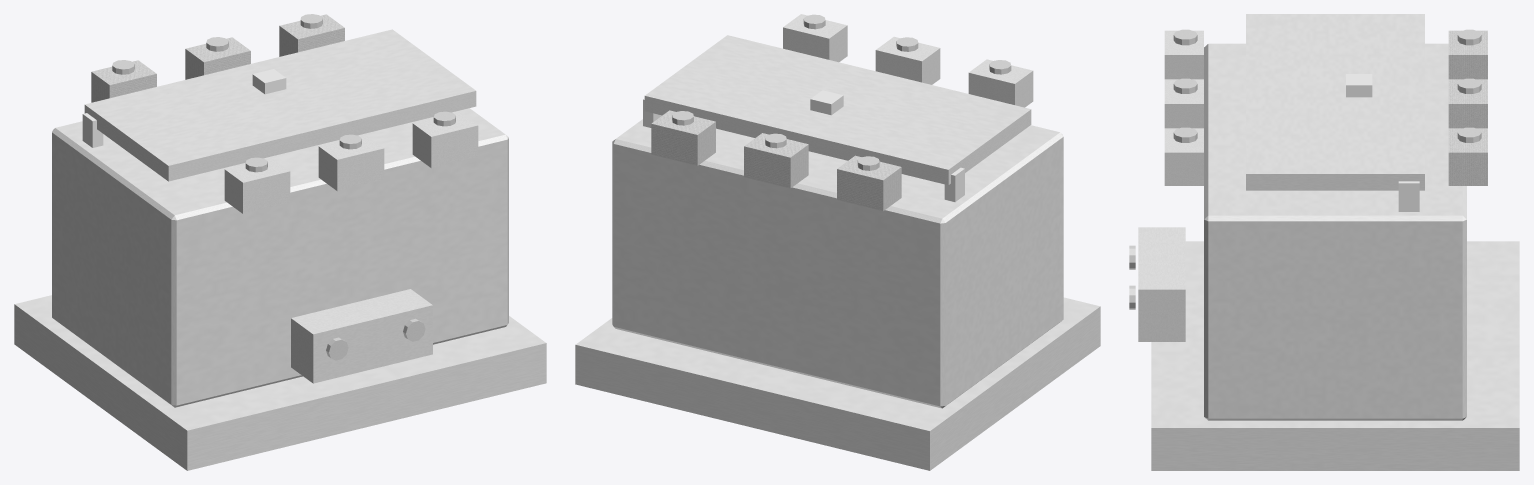
File: switchgear_contactor_three.obj
3 views of the same model, side by side, from view 1: azimuth 30°, elevation 25°; view 2: azimuth 150°, elevation 25°; view 3: azimuth 270°, elevation 25° (orthographic). The views are drawn at different scales.
Visible parts, largest first — view 1: Case, Base, Armature, Control, NO, Terminal, Indicator, Heatsink; view 2: Case, Base, Armature, Terminal, NO, Heatsink, Indicator; view 3: Case, Base, Armature, Terminal, Control, NO, Heatsink, Indicator.
Part boxes in pixels (<box>): Case: <box>52,108,508,407</box>; Base: <box>14,295,546,470</box>; Armature: <box>84,29,476,181</box>; Control: <box>291,289,432,383</box>; NO: <box>224,112,478,213</box>; Terminal: <box>91,14,455,360</box>; Indicator: <box>252,69,286,94</box>; Heatsink: <box>82,113,103,147</box>; Case: <box>612,119,1063,408</box>; Base: <box>575,297,1100,470</box>; Armature: <box>644,35,1031,185</box>; Terminal: <box>651,14,1011,211</box>; NO: <box>783,14,1033,107</box>; Heatsink: <box>643,98,964,201</box>; Indicator: <box>810,90,843,115</box>; Case: <box>1204,43,1466,420</box>; Base: <box>1151,241,1519,470</box>; Armature: <box>1246,14,1424,190</box>; Terminal: <box>1129,29,1487,309</box>; Control: <box>1138,227,1185,341</box>; NO: <box>1164,30,1203,185</box>; Heatsink: <box>1398,181,1419,211</box>; Indicator: <box>1346,74,1372,97</box>.
Bounding box in the file's own units: 0.84 × 0.625 × 0.742.
